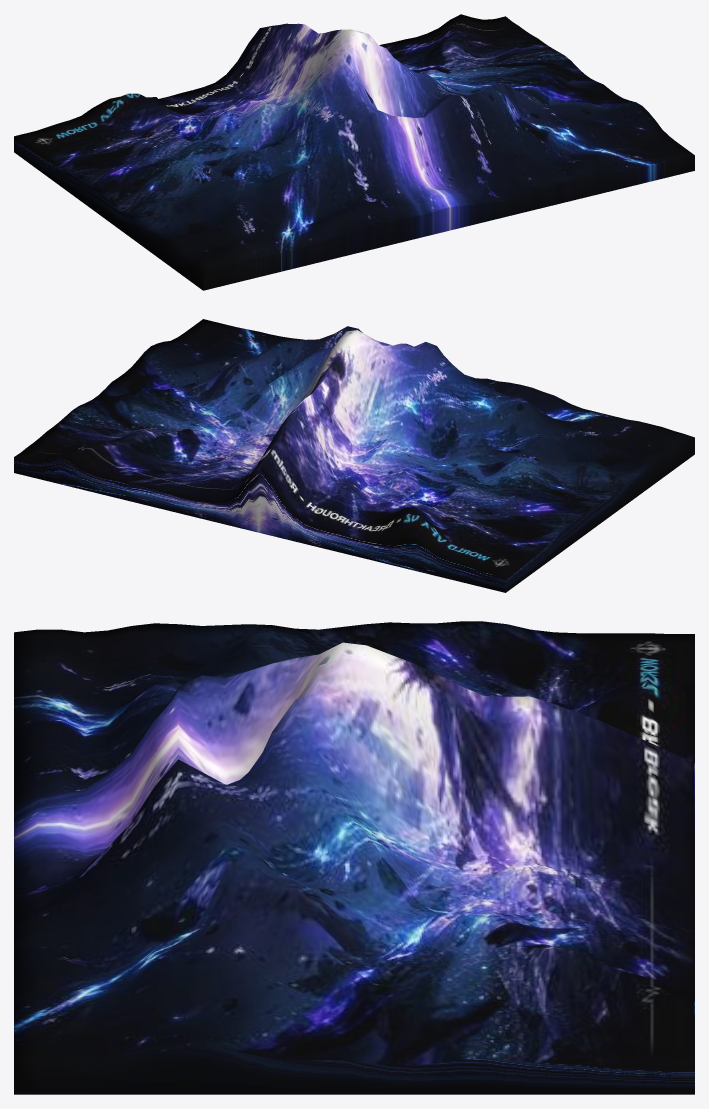
The model's file is WORLD_VFX_02_Breakthrough.glb.
The picture shows the model from 3 angles, top to bottom: view 1: azimuth 30°, elevation 25°; view 2: azimuth 150°, elevation 25°; view 3: azimuth 270°, elevation 25°; orthographic projection. The views are drawn at different scales.
Visible parts, largest first — view 1: WORLD_VFX_02_Breakthrough; view 2: WORLD_VFX_02_Breakthrough; view 3: WORLD_VFX_02_Breakthrough.
Part boxes in pixels (left/top/right/bottom): WORLD_VFX_02_Breakthrough: left=14, top=14, right=694, bottom=290; WORLD_VFX_02_Breakthrough: left=14, top=319, right=694, bottom=592; WORLD_VFX_02_Breakthrough: left=14, top=621, right=694, bottom=1094.
Bounding box in the file's own units: 2 × 0.51 × 1.33.
1 material, 1 textured.
